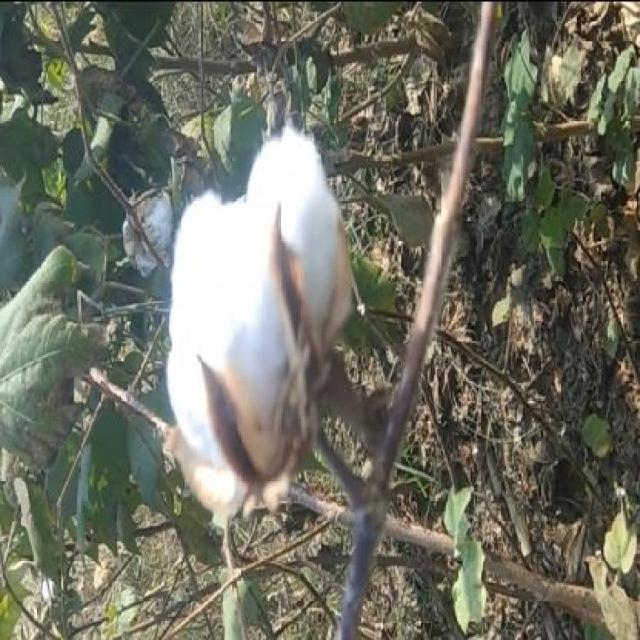cotton_ready: (120, 127, 437, 567)
